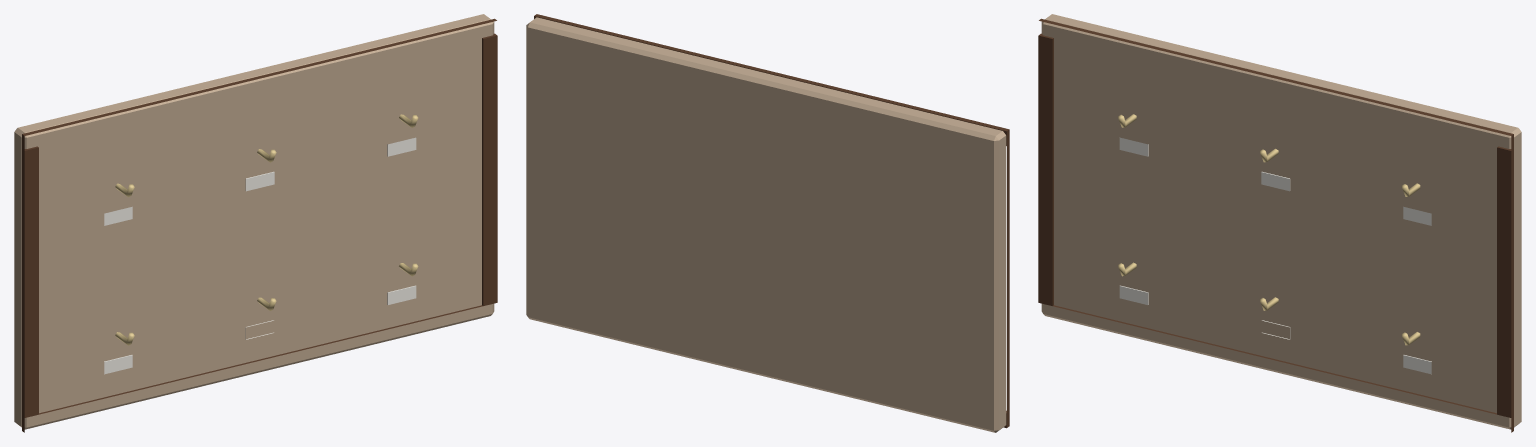
The model's file is hook_board.glb.
The picture shows the model from 3 angles, left to right: view 1: azimuth 30°, elevation 25°; view 2: azimuth 150°, elevation 25°; view 3: azimuth 330°, elevation 25°; orthographic projection.
Parts seen in each view (by area): view 1: hook_board; view 2: hook_board; view 3: hook_board.
Part boxes in pixels (<box>): hook_board: <box>14,14,497,432</box>; hook_board: <box>526,14,1009,432</box>; hook_board: <box>1038,14,1521,432</box>.
Bounding box in the file's own units: 1 × 0.6 × 0.0951.
